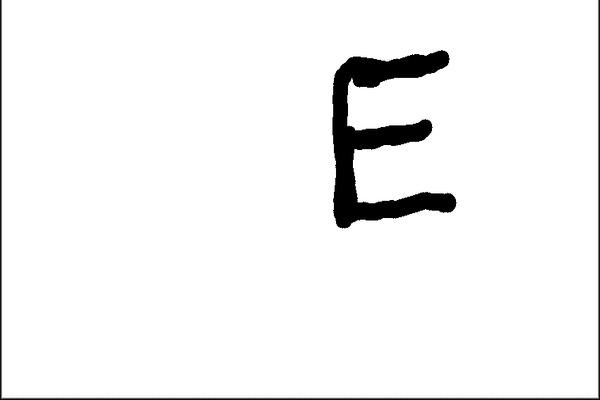E: (324, 45, 459, 231)
